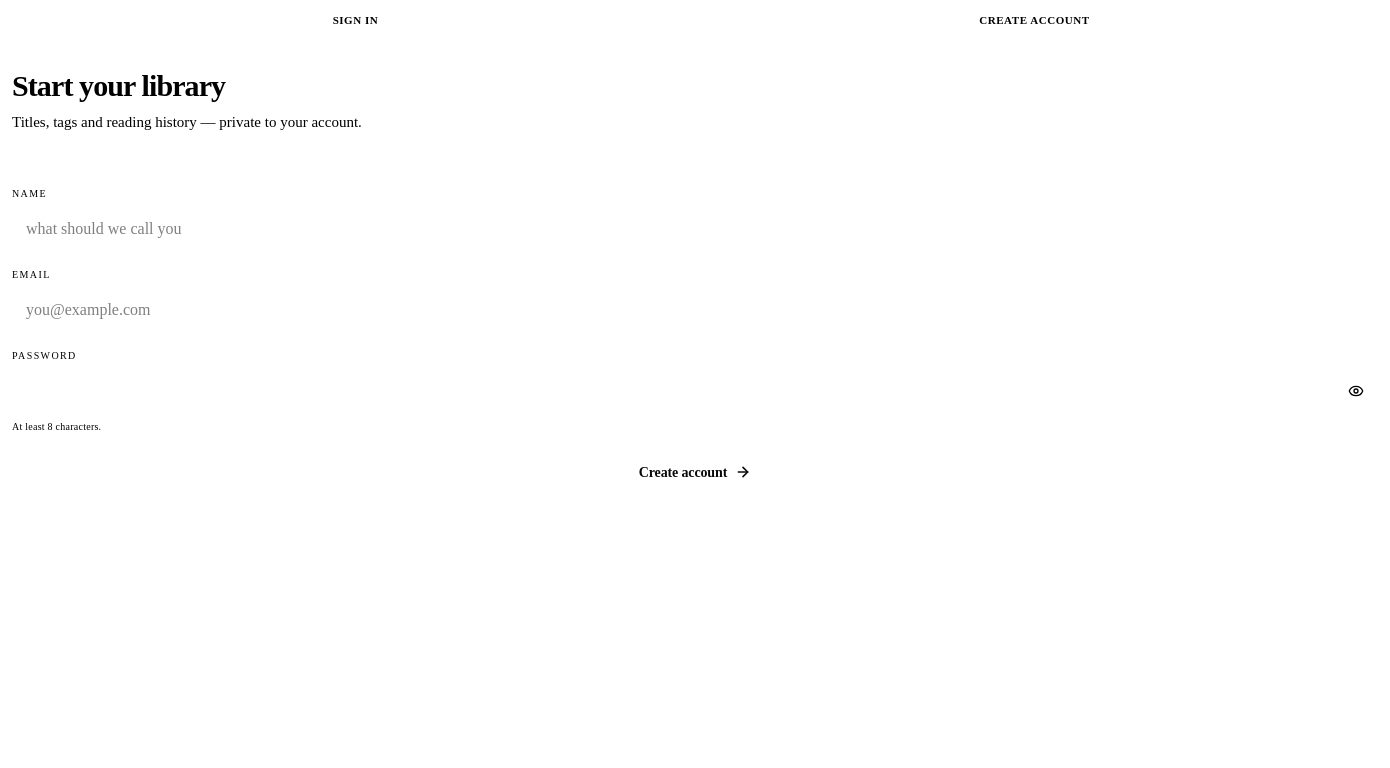
it: auth forms › keeps email verification callbacks on the application origin
The image size is (1390, 768).
Type "Alice" into the field labelled "Name".
click(695, 229); type("Alice")  # box [12, 207, 1378, 251]
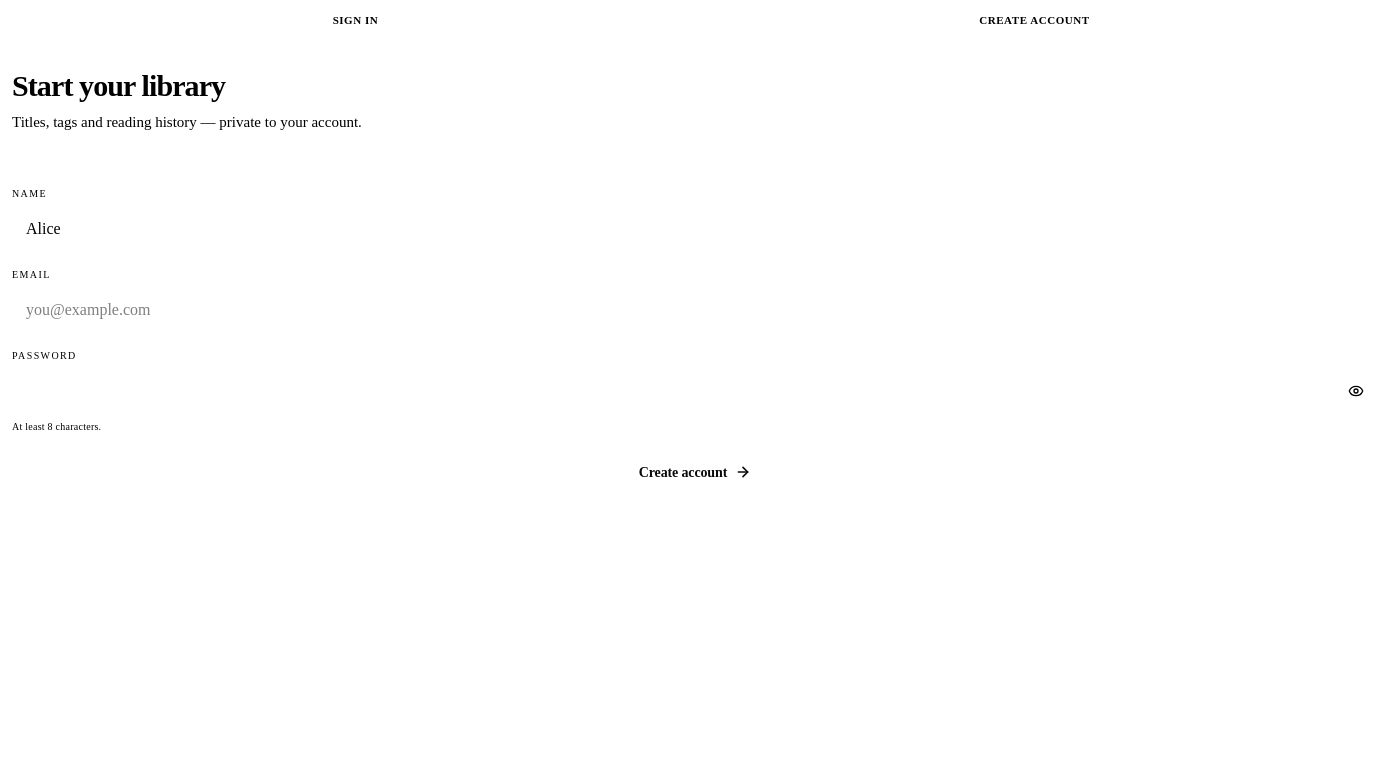
Type "alice@example.test" into the field labelled "Email".
click(695, 310); type("alice@example.test")  # box [12, 288, 1378, 332]
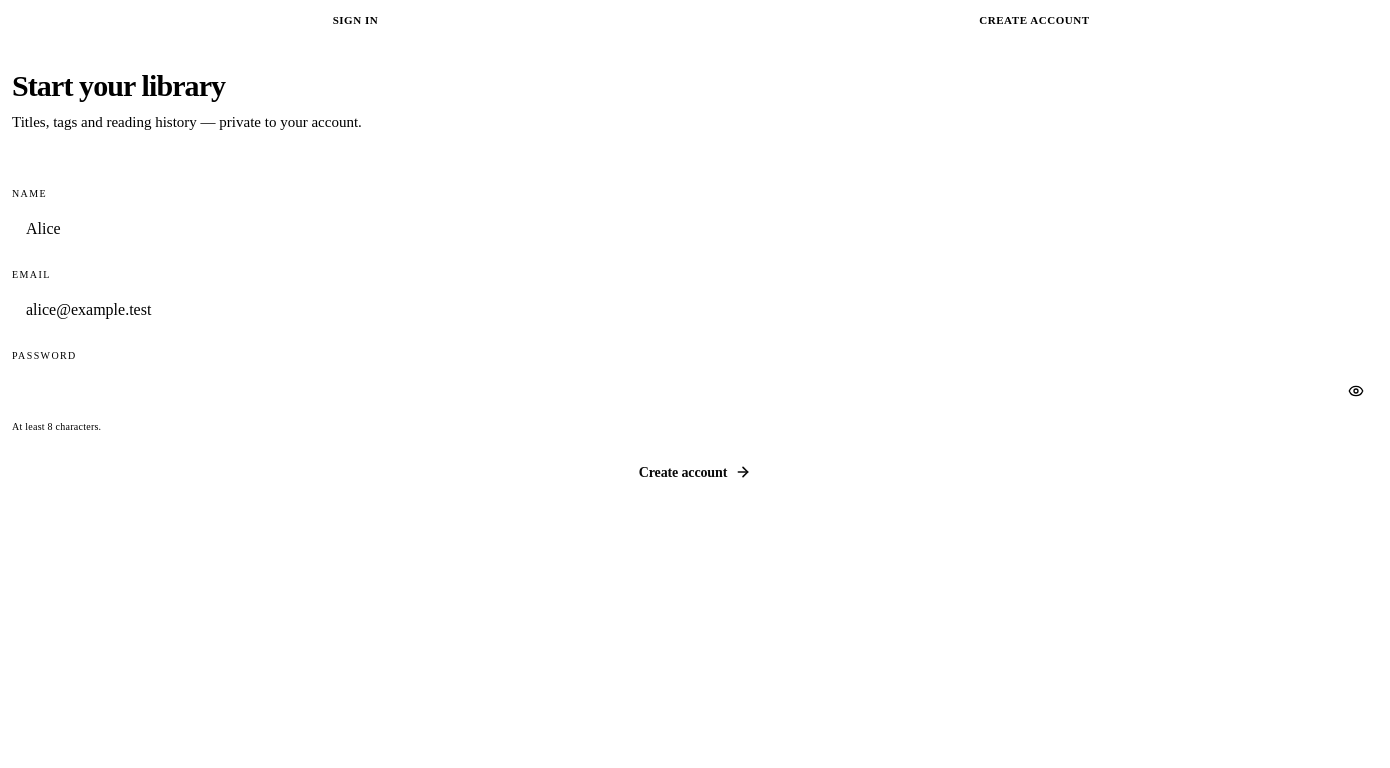
Type "password123" into the password field labelled "Password".
click(695, 391); type("password123")  # box [12, 369, 1378, 413]
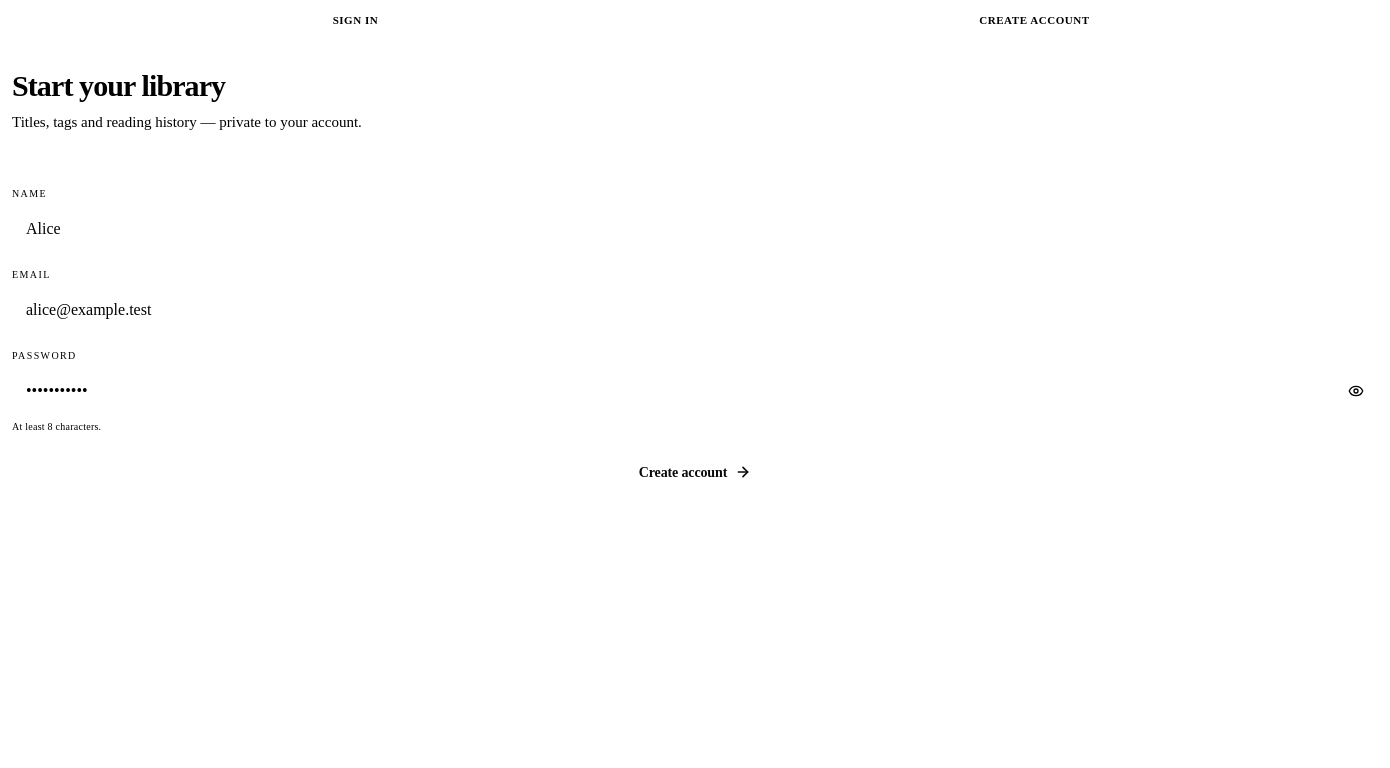
Click the button "Create account".
click(695, 472)  # box [12, 450, 1378, 494]
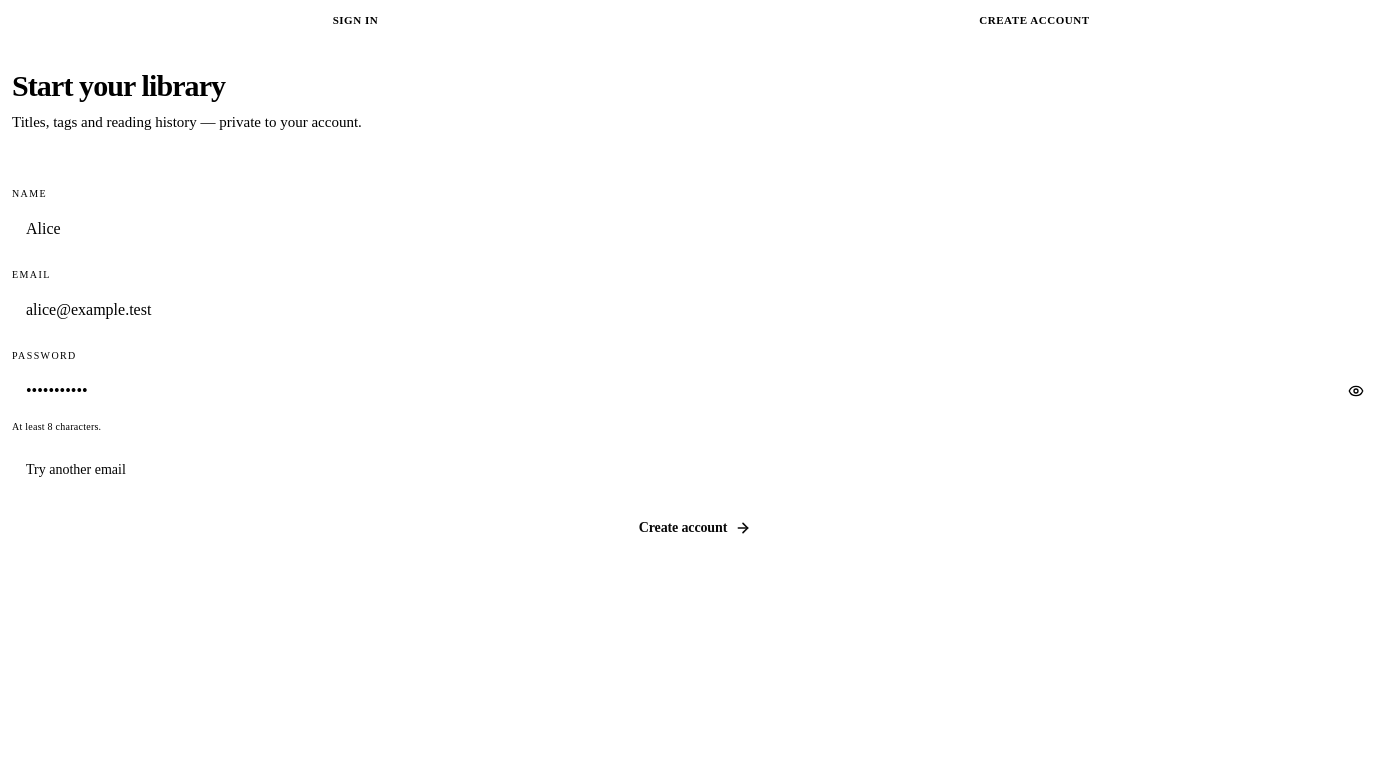
Result: the text "Try another email" is shown at [26, 462, 126, 477]
